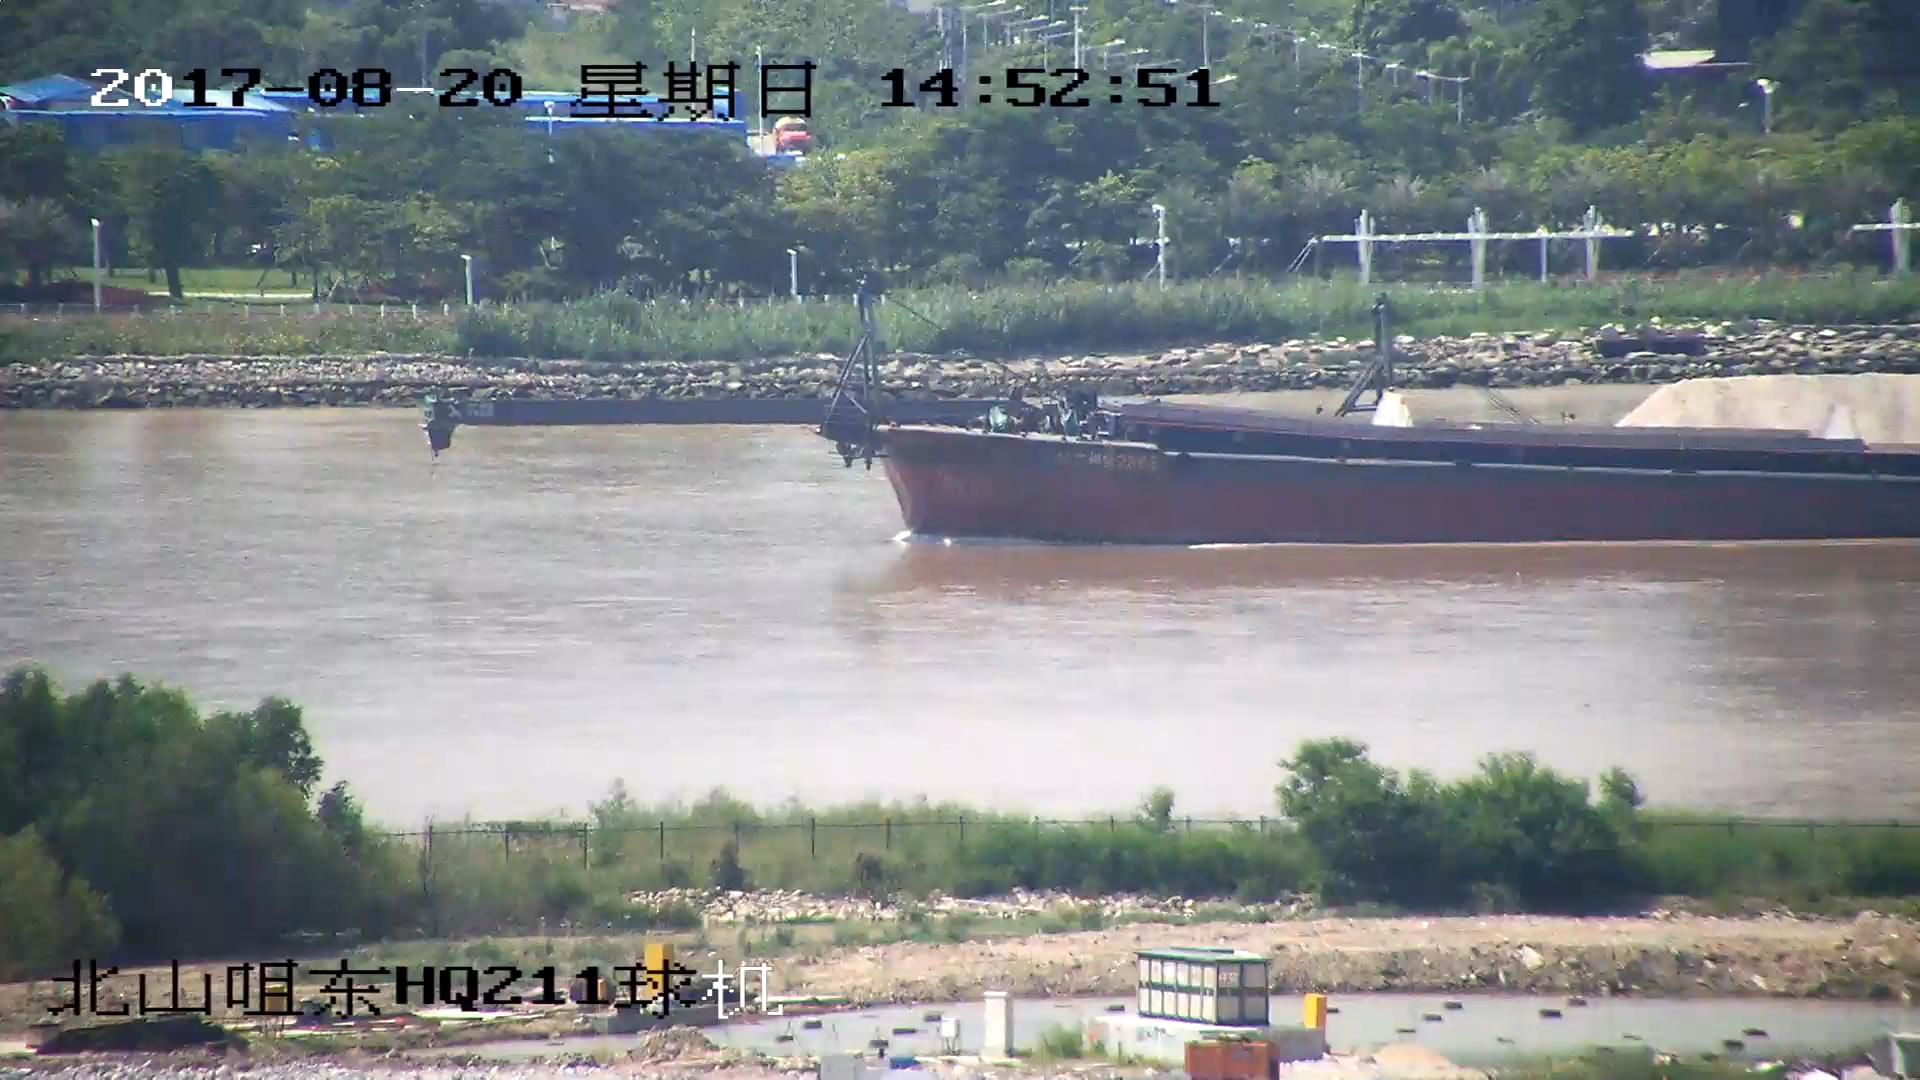bulk cargo carrier: (429, 290, 1920, 542)
ore carrier: (1106, 307, 1920, 452)
